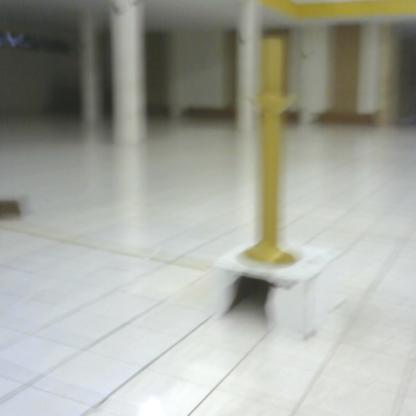pole: (234, 34, 313, 278)
